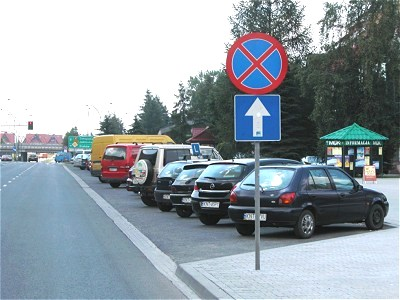no_stopping_sign: (225, 32, 288, 95)
